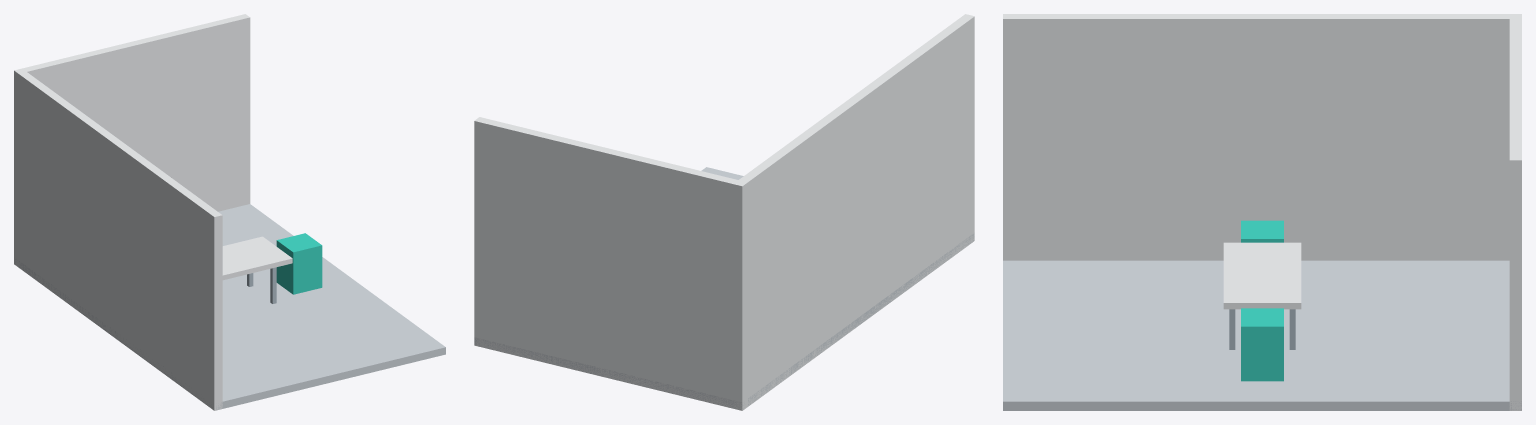
The picture shows the model from 3 angles, left to right: view 1: azimuth 30°, elevation 25°; view 2: azimuth 150°, elevation 25°; view 3: azimuth 270°, elevation 25°; orthographic projection. The views are drawn at different scales.
Parts seen in each view (by area): view 1: Exhibition Booth Concept; view 2: Exhibition Booth Concept; view 3: Exhibition Booth Concept.
Boxes of the visible parts, x1,y1,x2,y2 form: Exhibition Booth Concept: (14,14,445,410); Exhibition Booth Concept: (474,14,974,410); Exhibition Booth Concept: (1003,14,1521,410).
Bounding box in the file's own units: 4 × 3.2 × 6.
